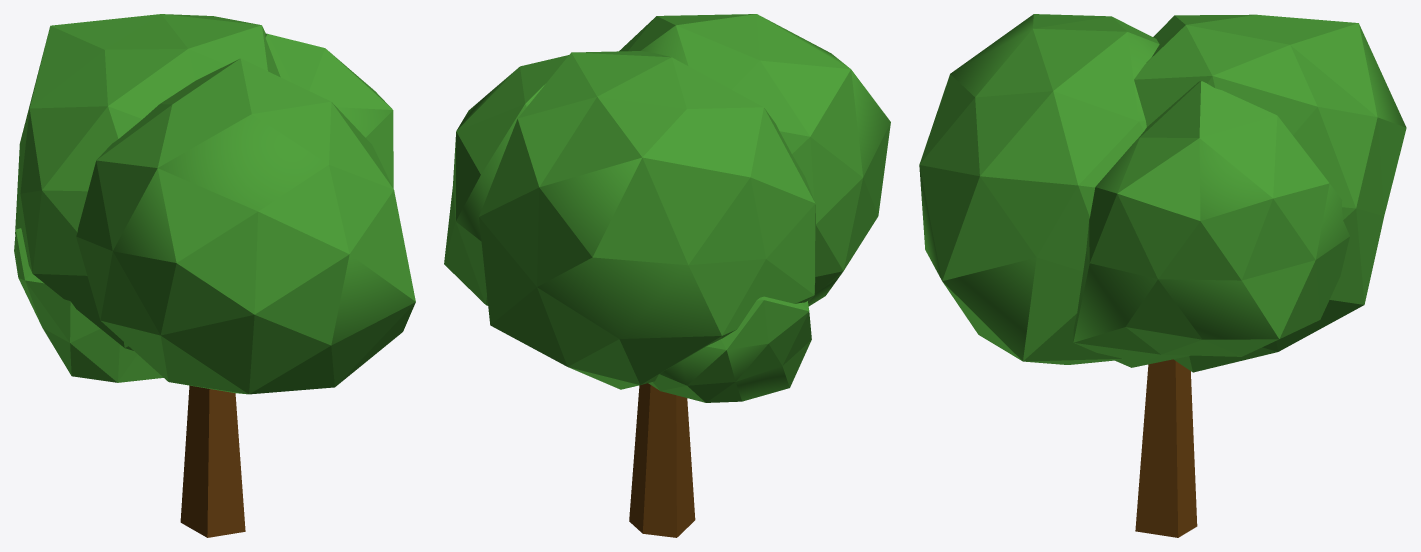
File: tree.gltf
3 views of the same model, side by side, from view 1: azimuth 30°, elevation 25°; view 2: azimuth 150°, elevation 25°; view 3: azimuth 270°, elevation 25° (orthographic). The views are drawn at different scales.
Visible parts, largest first — view 1: Oak; view 2: Oak; view 3: Oak.
Boxes of the visible parts, x1,y1,x2,y2 form: Oak: (14,14,415,537); Oak: (444,14,890,537); Oak: (919,14,1406,537).
Bounding box in the file's own units: 5.44 × 7.23 × 6.45.
Materials: 1 (1 with a texture image).
